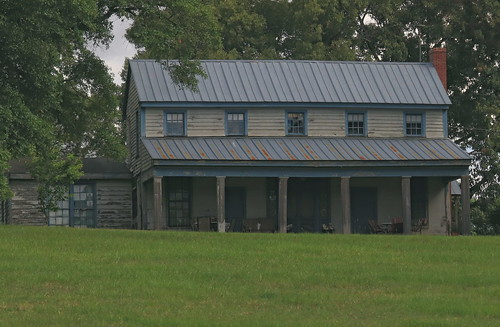low: (3, 154, 135, 229)
medium: (120, 53, 478, 238)
